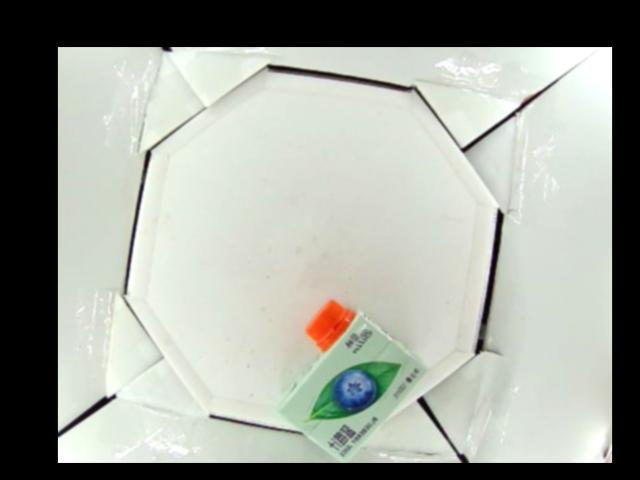Bottle: (276, 298, 421, 462)
